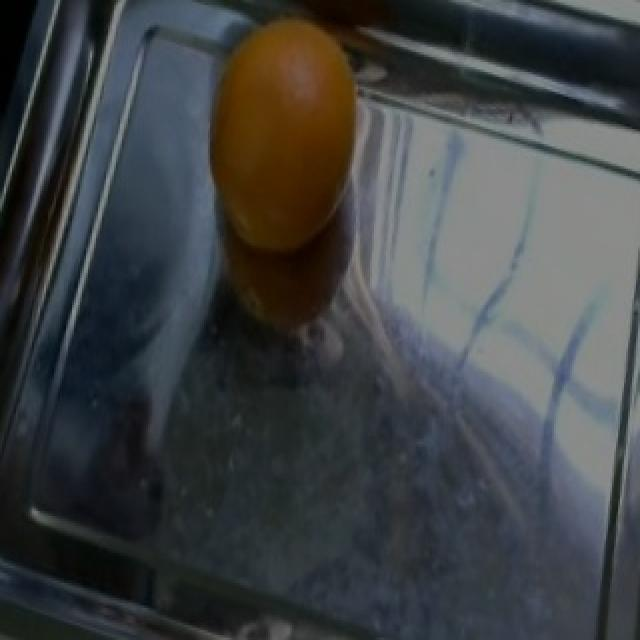Fruit: (180, 2, 380, 276)
